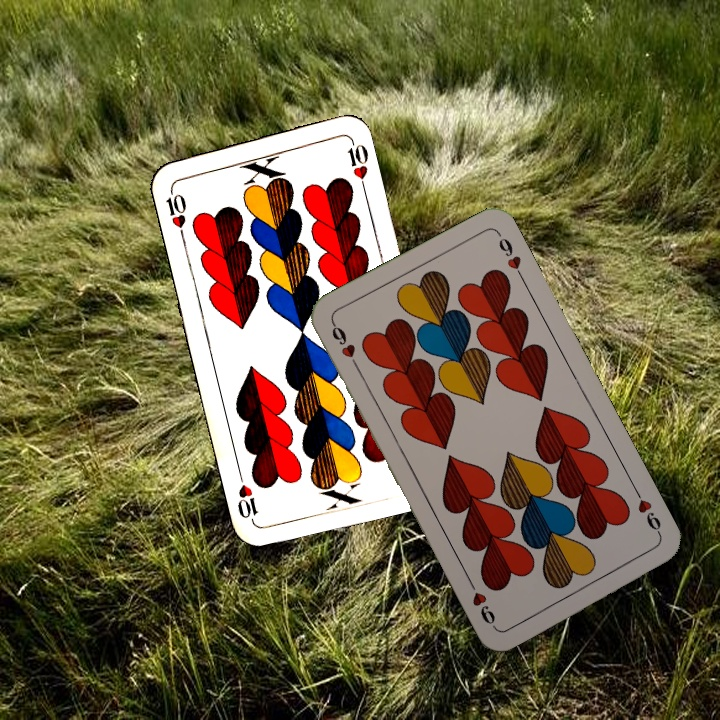H10: (161, 183, 189, 241)
H9: (327, 318, 363, 372), (630, 485, 665, 540)
